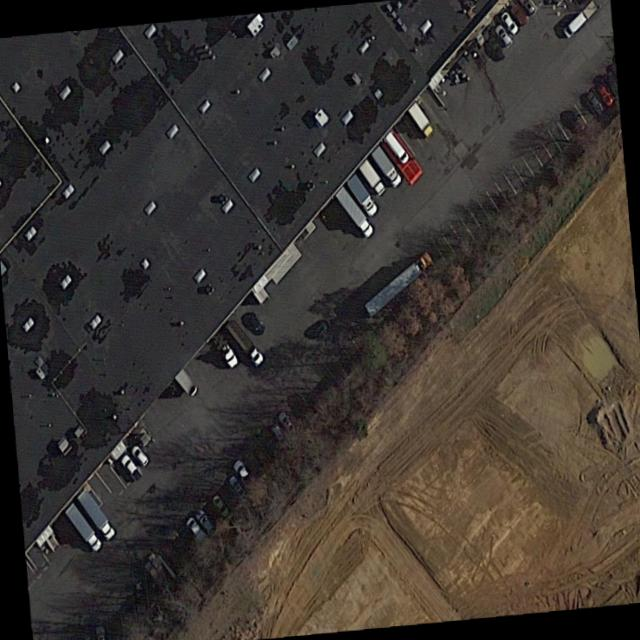large-vehicle: (364, 251, 432, 317), (334, 187, 374, 239), (225, 317, 265, 369), (76, 490, 114, 541), (64, 503, 100, 552), (558, 0, 599, 41), (346, 175, 378, 217), (370, 147, 401, 188), (210, 329, 240, 370), (357, 159, 385, 197), (407, 102, 434, 138), (383, 131, 409, 164)
small-vehicle: (172, 366, 198, 400), (208, 489, 233, 523), (182, 513, 207, 546), (267, 419, 290, 451), (491, 20, 514, 51), (118, 452, 142, 481), (276, 409, 299, 439), (497, 8, 520, 37), (193, 506, 215, 536), (231, 458, 252, 488), (128, 443, 150, 471), (583, 89, 605, 117), (225, 472, 246, 500), (594, 82, 614, 109), (507, 2, 527, 27), (517, 0, 536, 16), (93, 624, 104, 640), (80, 630, 91, 640)
